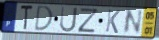D: (33, 4, 54, 32)
K: (104, 9, 121, 35)
N: (121, 9, 144, 36)
T: (20, 4, 34, 32)
U: (59, 6, 79, 33)
Z: (77, 7, 100, 34)
